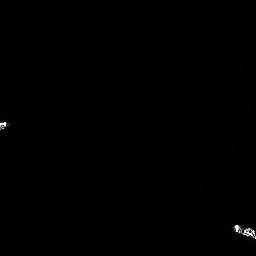ship: (233, 223, 256, 241)
